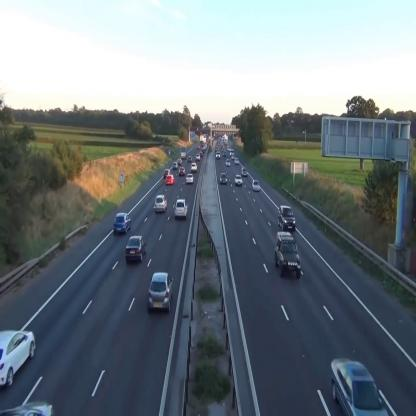car: (330, 356, 387, 416), (1, 328, 36, 390), (275, 231, 301, 280), (147, 272, 173, 314), (125, 235, 147, 264), (278, 204, 296, 233), (114, 214, 131, 236), (174, 198, 188, 220), (153, 195, 167, 213), (165, 175, 175, 187), (234, 175, 244, 187), (220, 171, 228, 185), (252, 179, 260, 193), (186, 173, 194, 184), (190, 162, 198, 173), (178, 167, 186, 177), (241, 167, 248, 177), (226, 157, 231, 168), (216, 150, 221, 160), (173, 162, 179, 170), (234, 157, 240, 165)
lorry: (180, 146, 187, 160)
